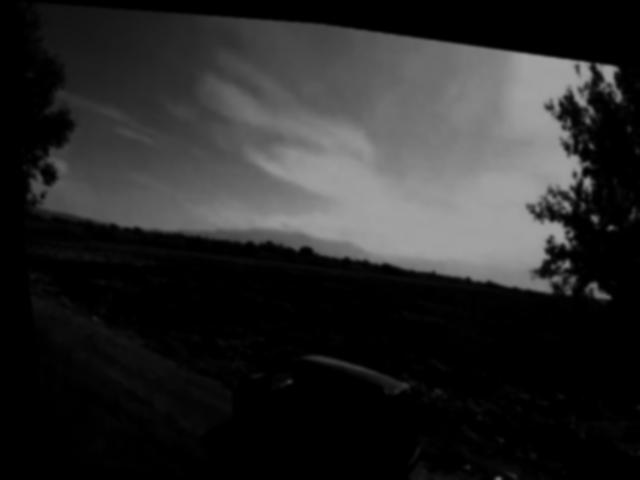hedef: (453, 459, 512, 480)
